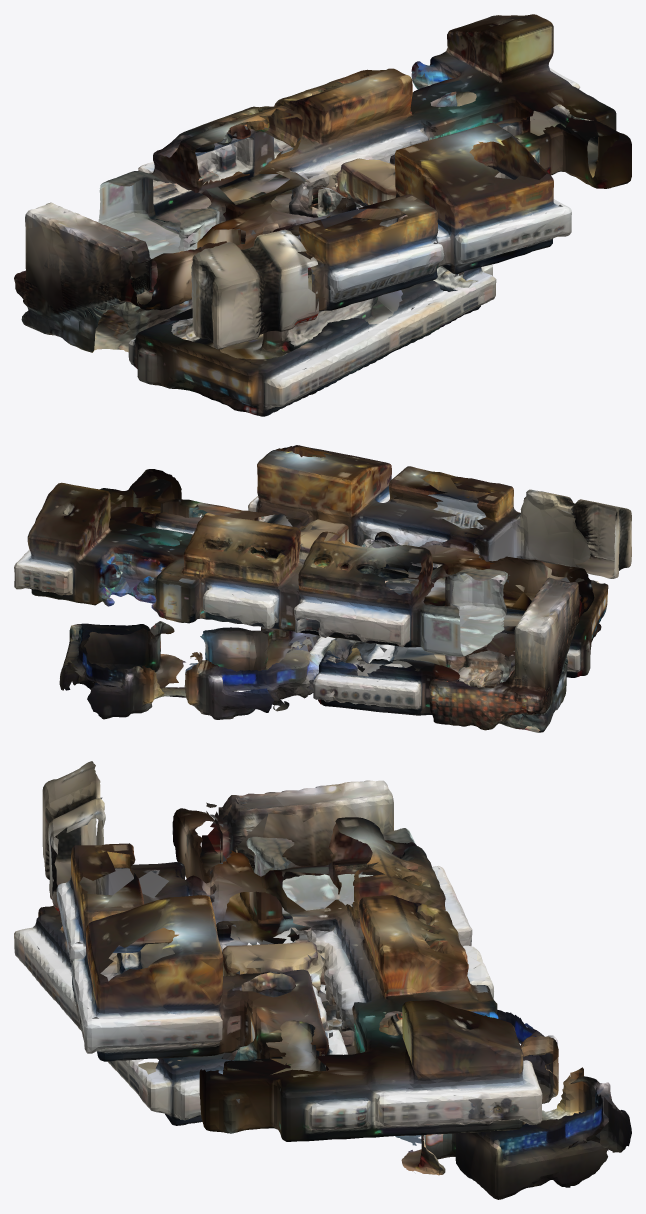
Rendered from Scaniverse 2026-01-15 104931.fbx.
3 views of the same model, one above another, from view 1: azimuth 30°, elevation 25°; view 2: azimuth 150°, elevation 25°; view 3: azimuth 270°, elevation 25° (orthographic). The views are drawn at different scales.
Visible parts, largest first — view 1: mesh; view 2: mesh; view 3: mesh.
Boxes of the visible parts, bbox=[...] form: mesh: bbox=[14, 14, 631, 416]; mesh: bbox=[14, 445, 631, 732]; mesh: bbox=[14, 761, 631, 1199].
Size of the model in its own units: 35.81 by 10.52 by 29.19.
1 material, 1 textured.
